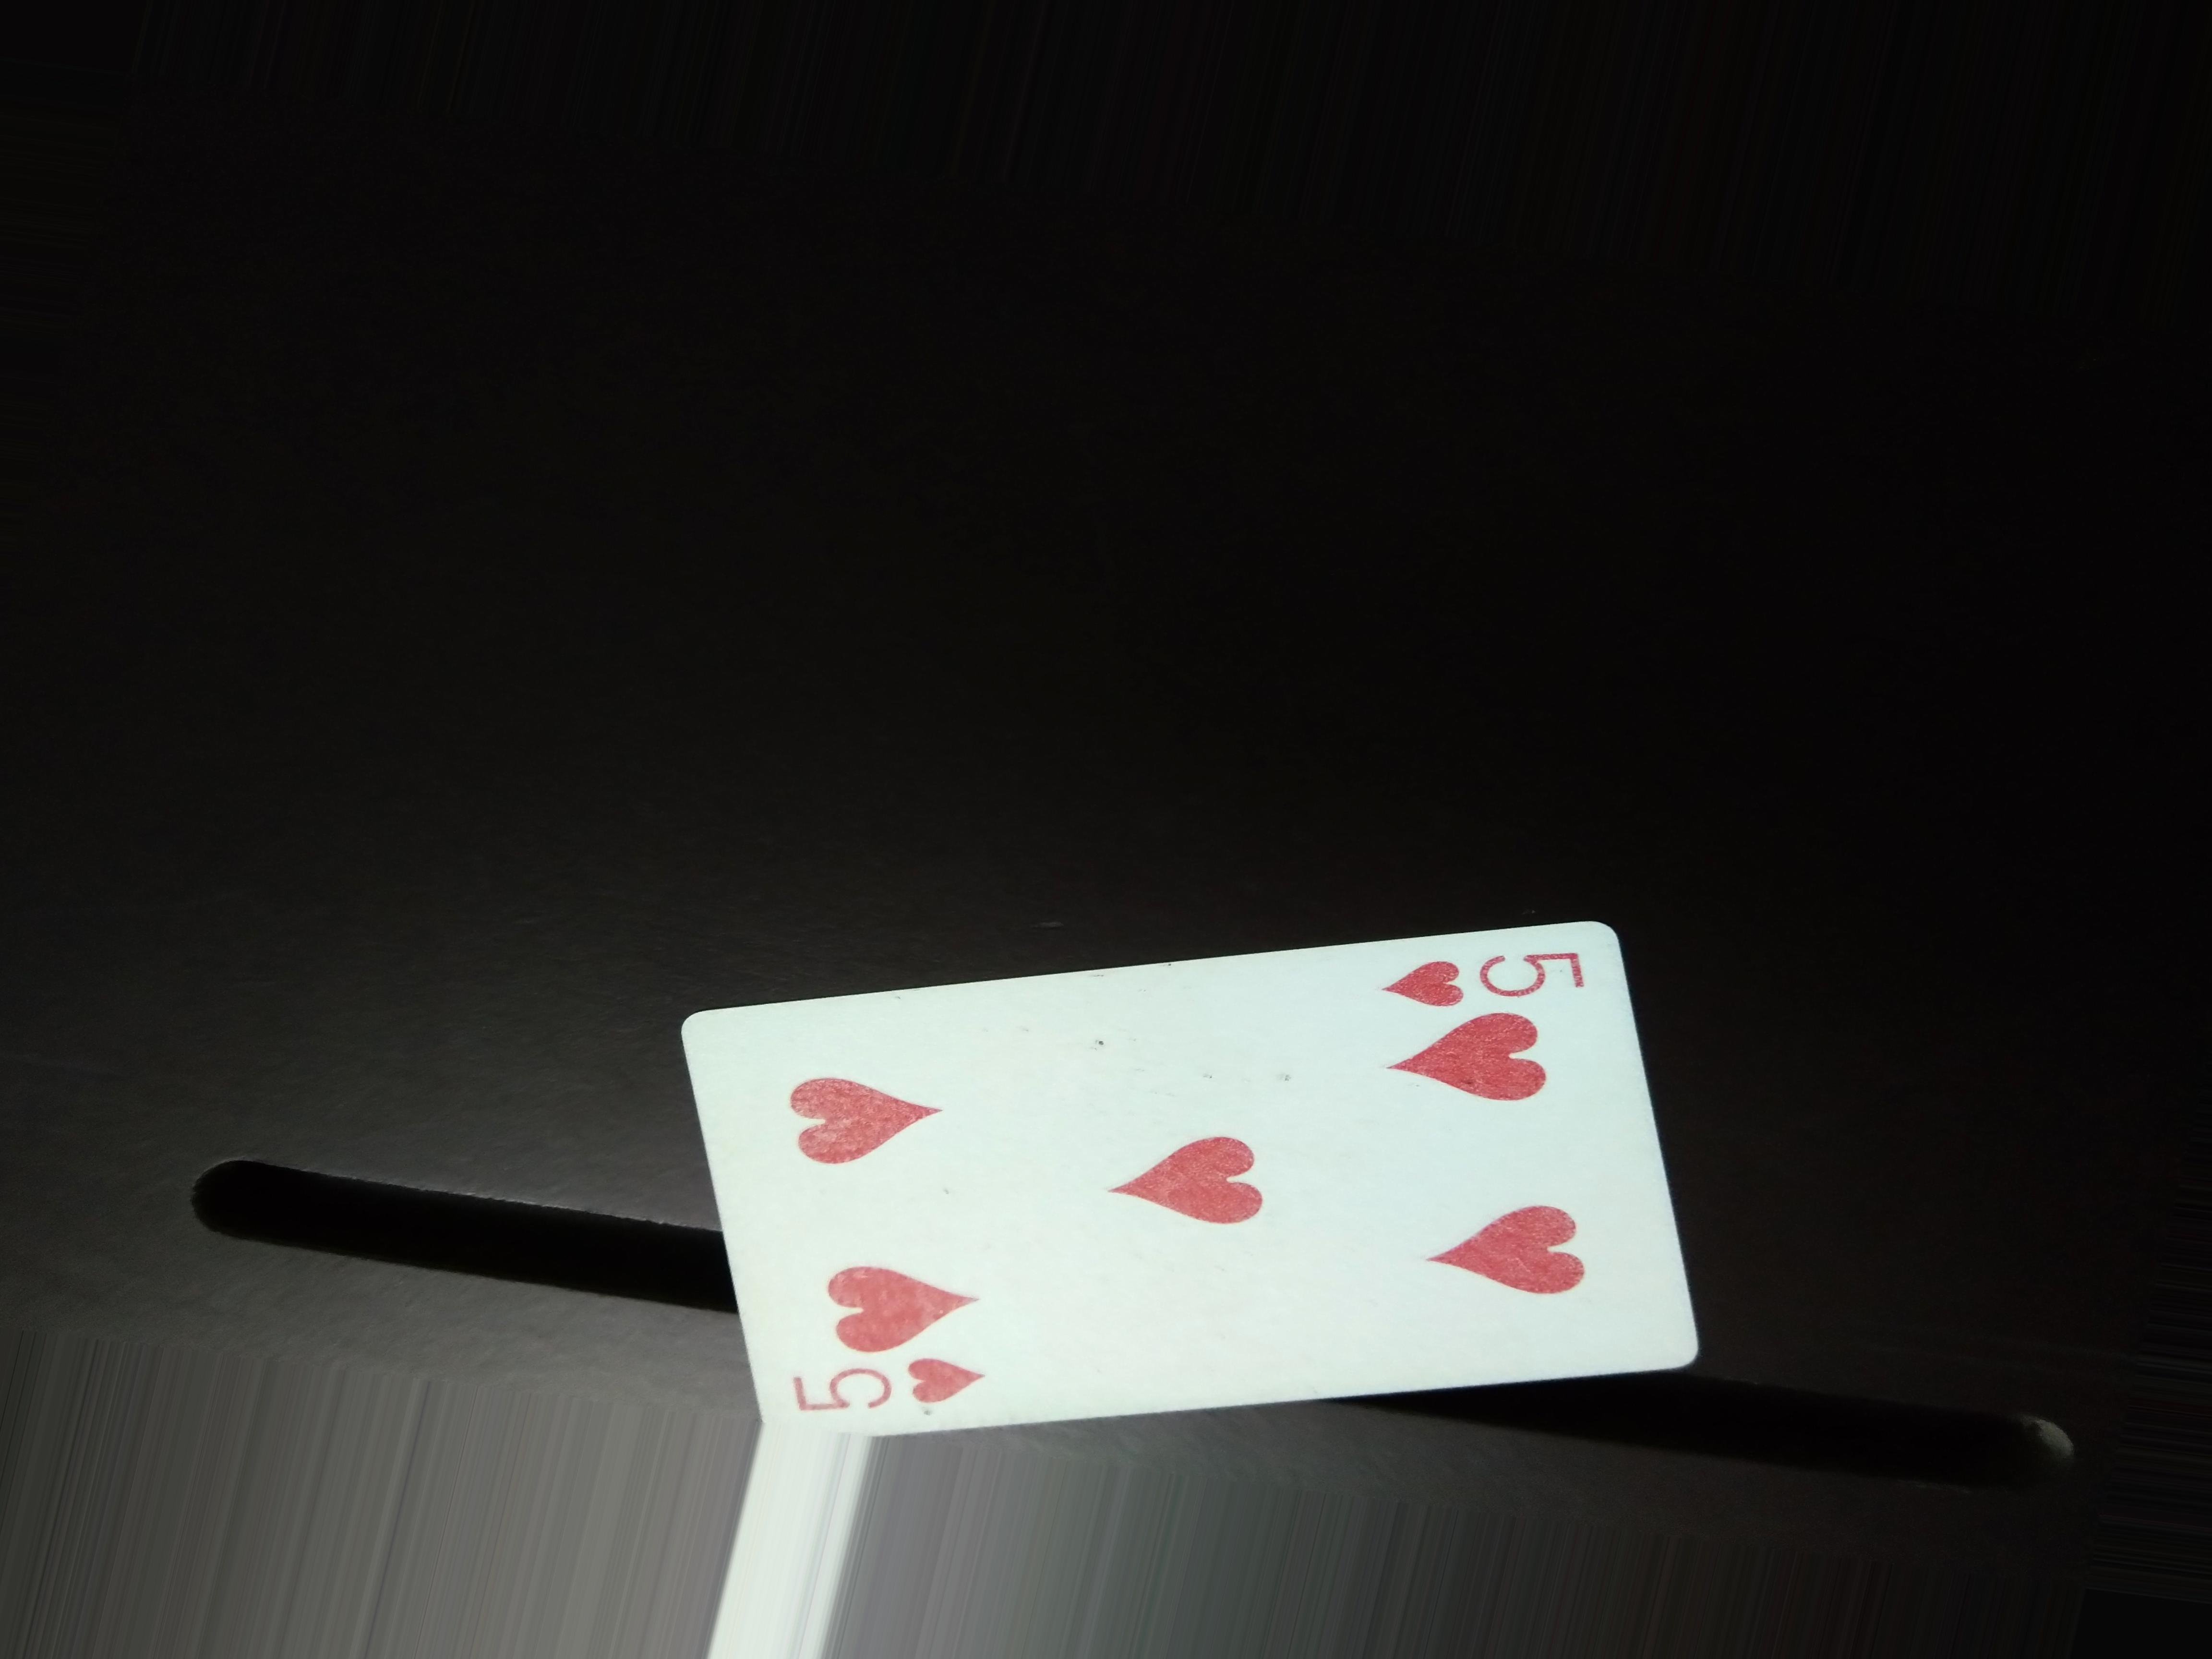5H: (1371, 941, 1606, 1012)
